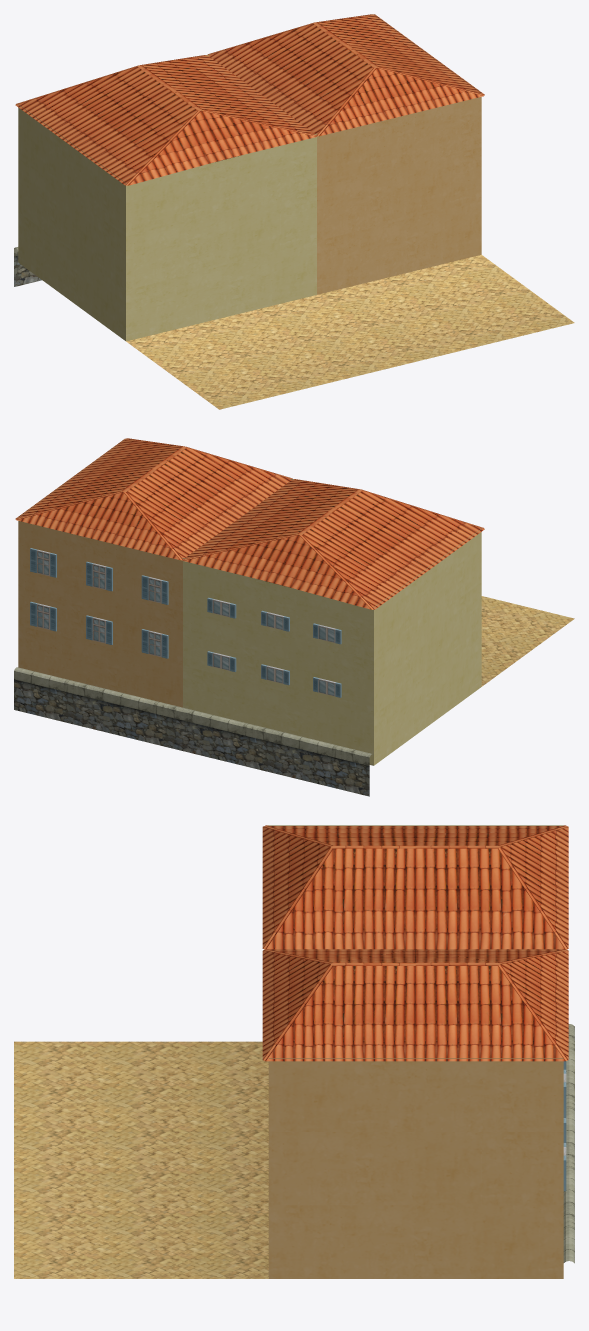
The model's file is Dock_Side.fbx.
3 renders of one model, top to bottom at view 1: azimuth 30°, elevation 25°; view 2: azimuth 150°, elevation 25°; view 3: azimuth 270°, elevation 25°, orthographic. The views are drawn at different scales.
Parts seen in each view (by area): view 1: Dock_Side; view 2: Dock_Side; view 3: Dock_Side.
Part boxes in pixels (x1,y1,x2,y2): Dock_Side: [14, 14, 574, 409]; Dock_Side: [14, 438, 574, 796]; Dock_Side: [14, 825, 574, 1278].
Bounding box in the file's own units: 10.18 × 5.89 × 10.06.
